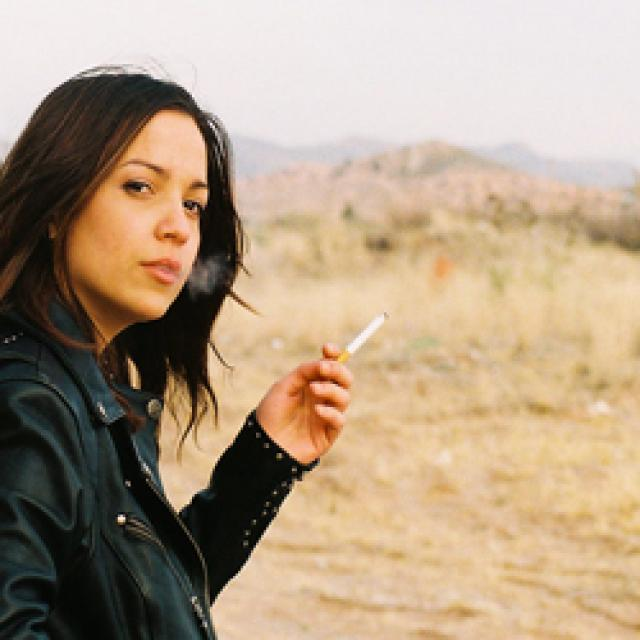Smooking: (338, 295, 400, 365)
